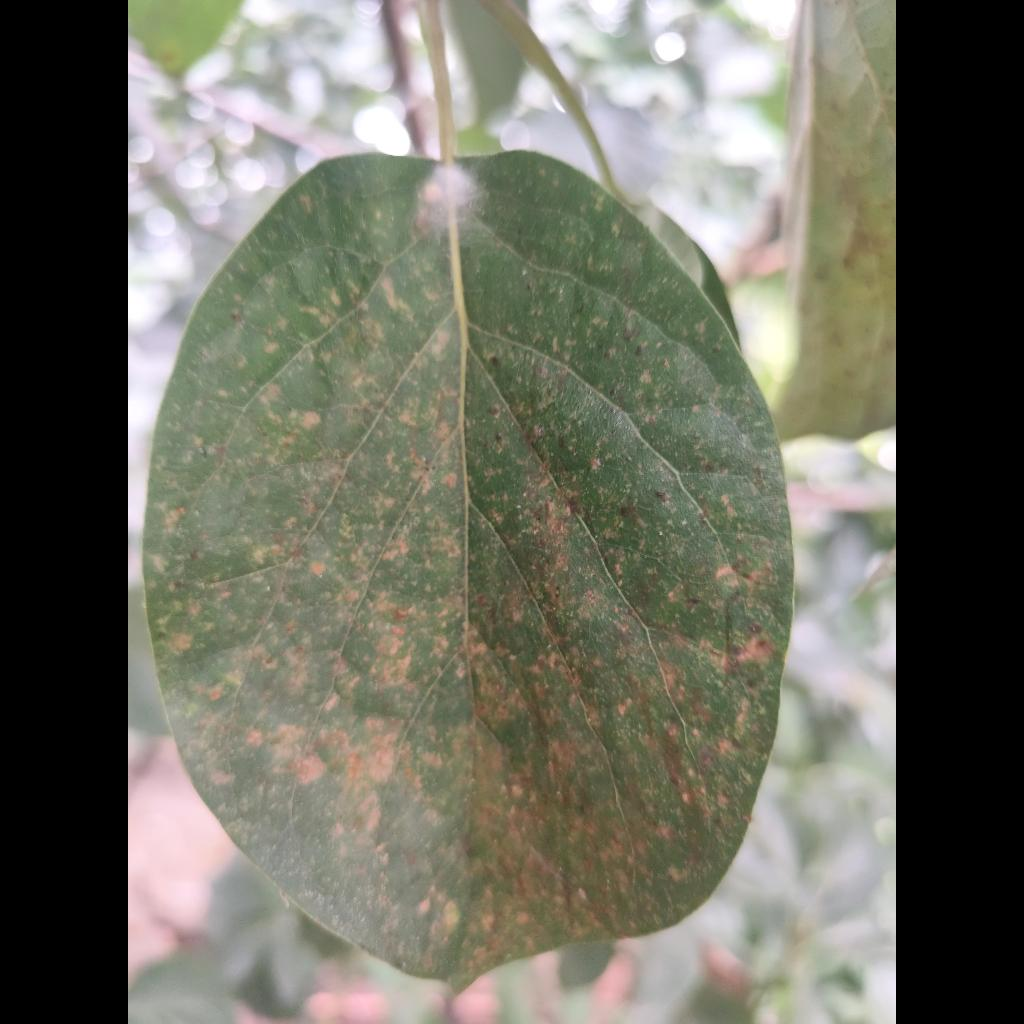antracnosis_hoja: (144, 93, 792, 989)
